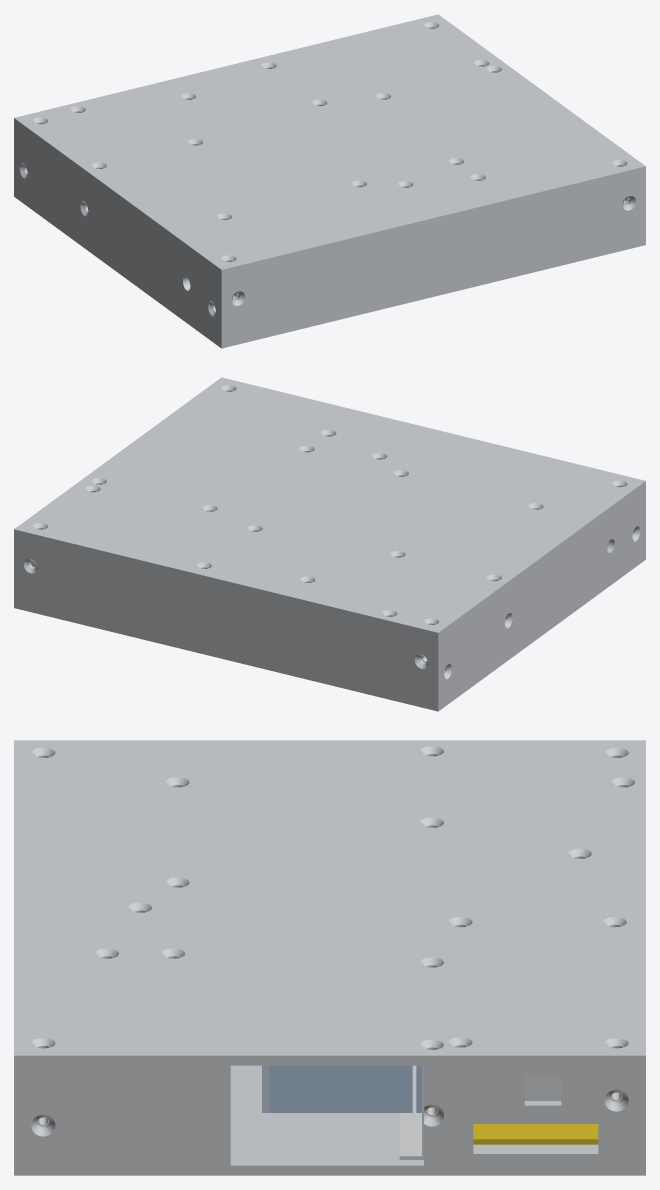
File: rakitan.glb
3 renders of one model, top to bottom at view 1: azimuth 30°, elevation 25°; view 2: azimuth 150°, elevation 25°; view 3: azimuth 270°, elevation 25°, orthographic. The views are drawn at different scales.
Visible parts, largest first — view 1: akrilik_45, akrilik_46, akrilik_48, akrilik_44; view 2: akrilik_45, akrilik_47, akrilik_48, akrilik_44; view 3: akrilik_45, akrilik_50, akrilik_44, akrilik_49, kaset_16, pcb_41, rangka_0, akrilik_46, akrilik_47, rangka_6.
Boxes of the visible parts, box(x1,y1,x2,y2) form: akrilik_45: box(14, 14, 645, 276); akrilik_46: box(218, 173, 645, 341); akrilik_48: box(17, 127, 217, 338); akrilik_44: box(14, 190, 645, 348); akrilik_45: box(14, 377, 645, 639); akrilik_47: box(14, 536, 441, 704); akrilik_48: box(442, 490, 642, 701); akrilik_44: box(14, 553, 645, 711); akrilik_45: box(14, 740, 645, 1065); akrilik_50: box(25, 1065, 230, 1165); akrilik_44: box(14, 1065, 645, 1175); akrilik_49: box(424, 1065, 634, 1165); kaset_16: box(269, 1065, 421, 1112); pcb_41: box(473, 1124, 598, 1144); rangka_0: box(399, 1065, 437, 1159); akrilik_46: box(14, 1065, 24, 1165); akrilik_47: box(635, 1065, 645, 1165); rangka_6: box(524, 1075, 561, 1100).
Size of the model in its own units: 203 by 36 by 172.
